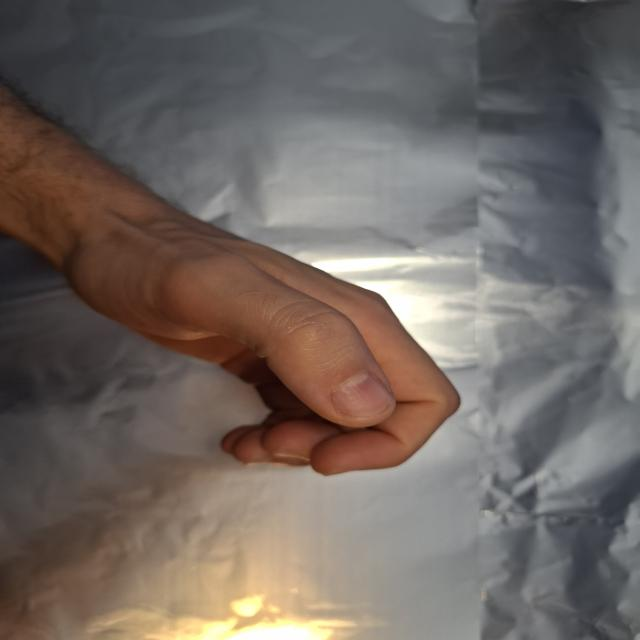glove_off: (54, 196, 464, 477)
